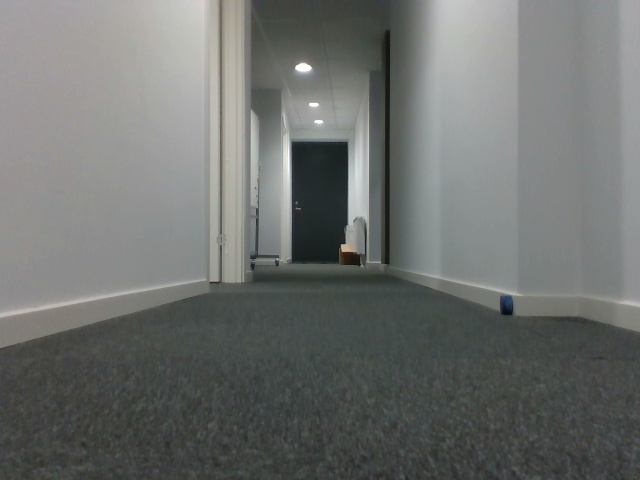alfa: (497, 293, 515, 316)
